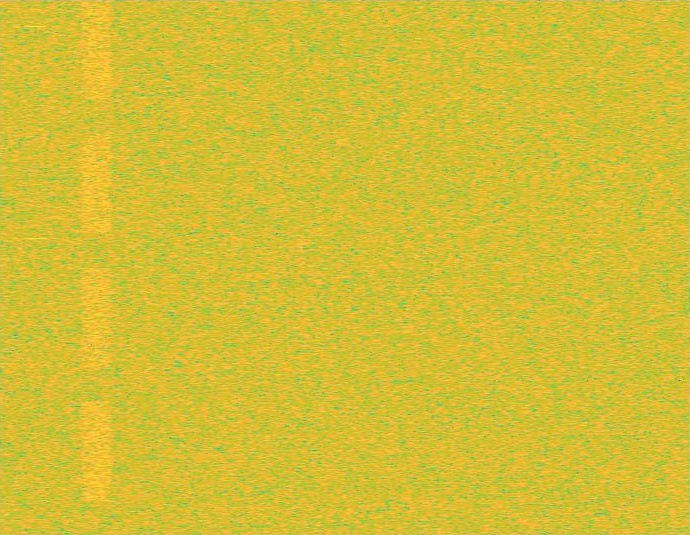5G: (79, 0, 114, 534)
Radar: (29, 0, 43, 534)
